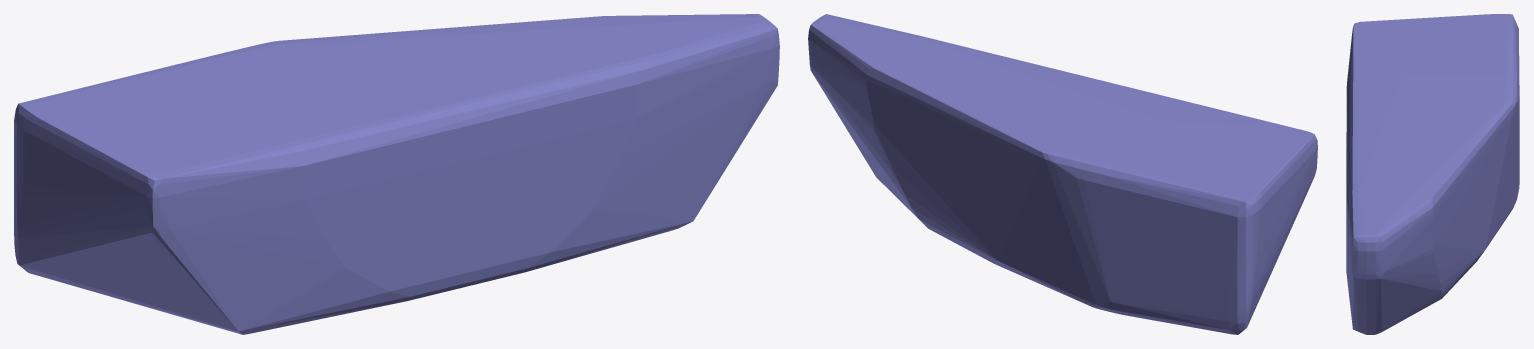
The model's file is right_hip_yaw_link_part_12.obj.
3 views of the same model, side by side, from view 1: azimuth 30°, elevation 25°; view 2: azimuth 150°, elevation 25°; view 3: azimuth 270°, elevation 25° (orthographic). The views are drawn at different scales.
Size of the model in its own units: 0.1287 by 0.0342 by 0.0416.
